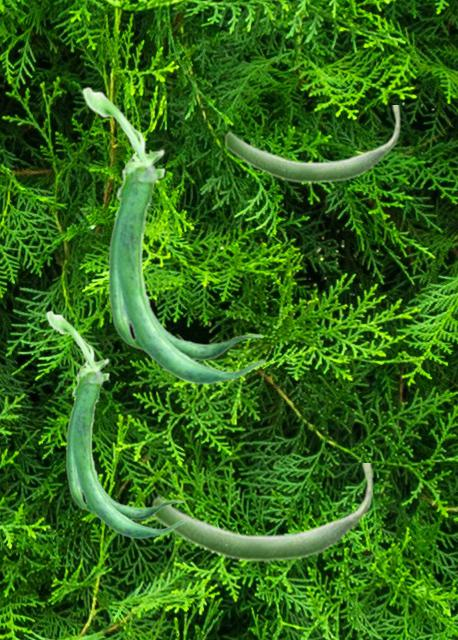french_bean: (81, 86, 264, 384), (45, 310, 185, 538), (151, 463, 373, 562), (224, 105, 400, 183)
